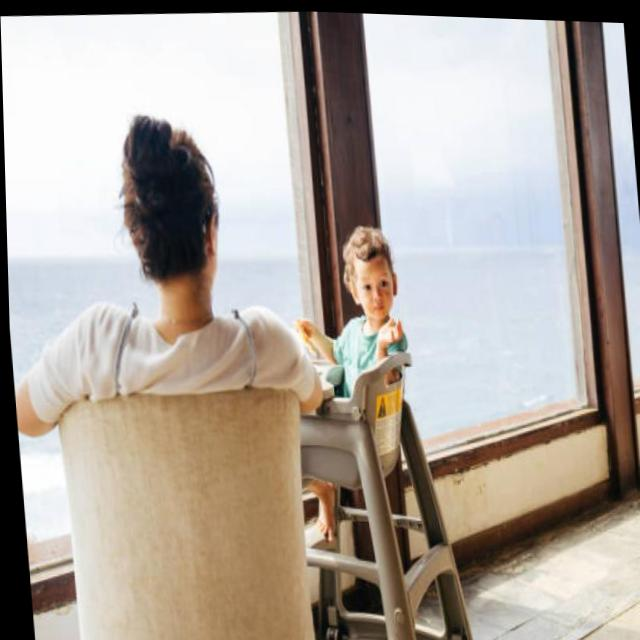no helmet: (117, 110, 234, 337)
